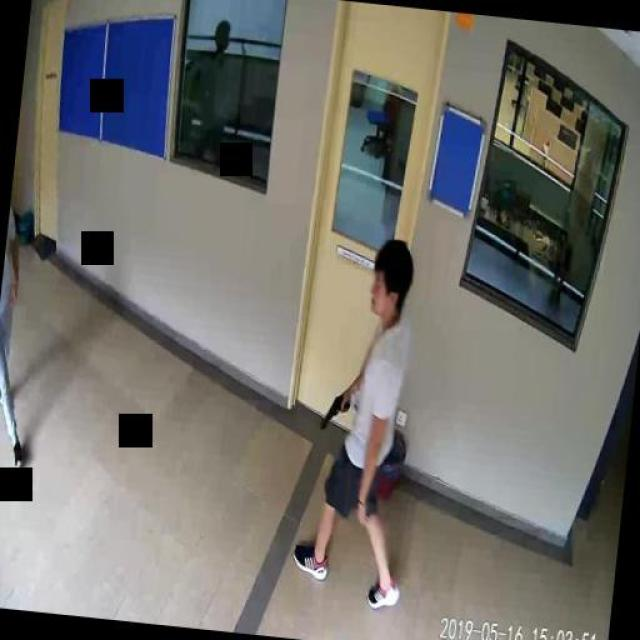gun: (319, 388, 350, 428)
